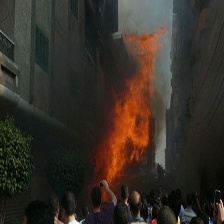fire: (92, 22, 171, 183)
